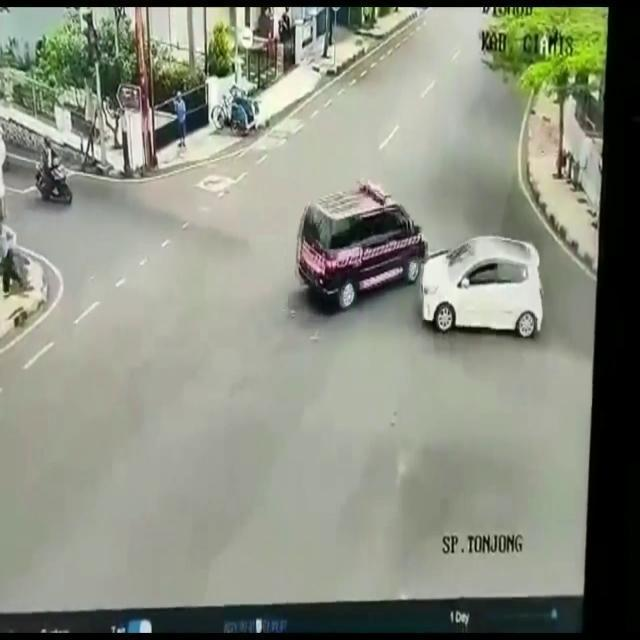accident: (296, 180, 546, 342)
